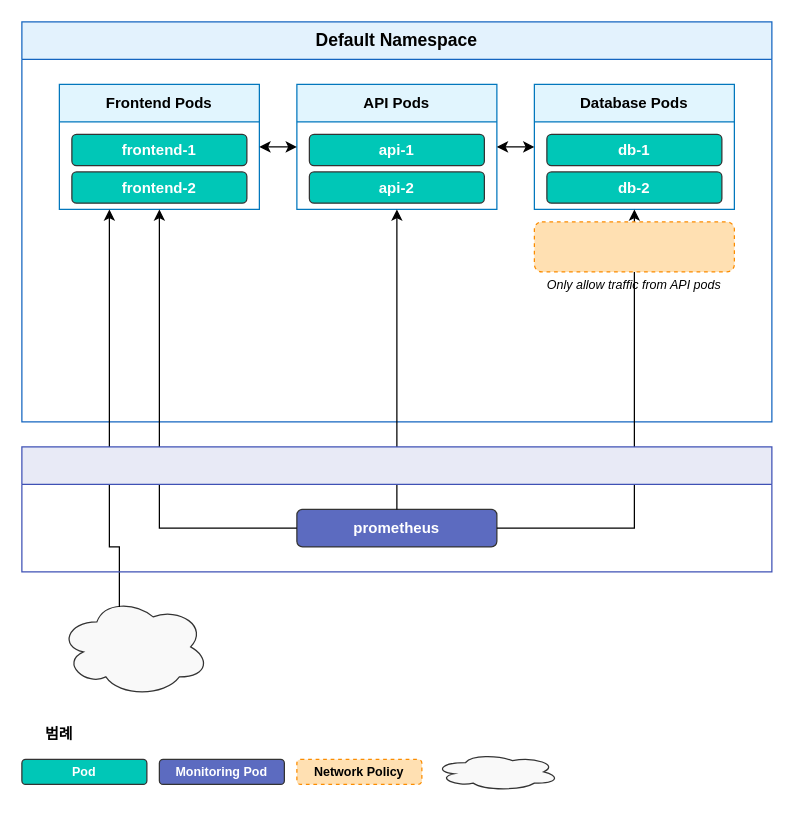
The diagram is 794 pixels wide and 813 high, and some of its shapes have lost their labels. Each missing label, with the centre of its shape:
"External Traffic" belongs at [496,771].
"Internet" belongs at [133,646].
"Monitoring Namespace" belongs at [396,509].
"NetworkPolicy: db-policy" belongs at [633,246].
